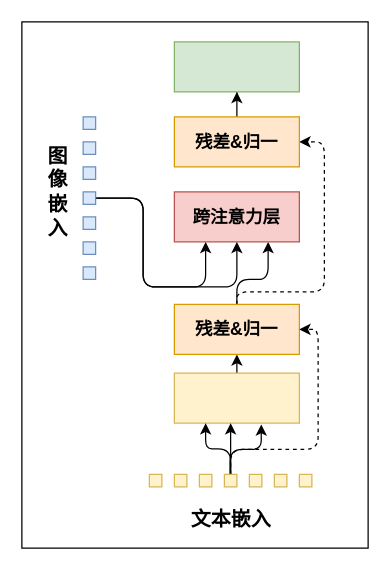
Image size: 390x570. Some labels were removed from this diagram. The shapes that lost their labels are listed below. From the top down, each one's box as (x1, y1, x2, y2) in pixels, then its label:
(173, 41, 299, 92): 前馈网络层
(173, 372, 299, 423): 自注意力层
